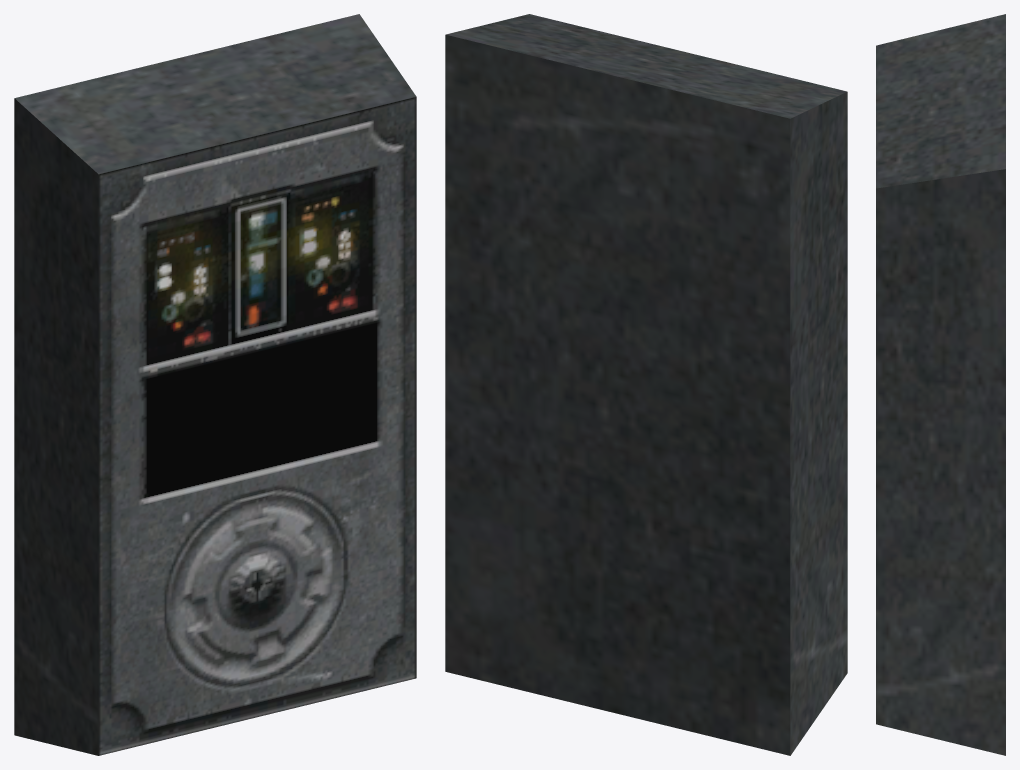
Rendered from thm_all_elevator_panel_down_s02_l1.fbx.
The picture shows the model from 3 angles, left to right: view 1: azimuth 30°, elevation 25°; view 2: azimuth 150°, elevation 25°; view 3: azimuth 270°, elevation 25°; orthographic projection. The views are drawn at different scales.
Parts seen in each view (by area): view 1: mesh_node; view 2: mesh_node; view 3: mesh_node.
Part boxes in pixels (left/top/right/bottom): mesh_node: left=14, top=14, right=416, bottom=755; mesh_node: left=445, top=14, right=847, bottom=755; mesh_node: left=876, top=14, right=1005, bottom=755.
Size of the model in its own units: 0.2045 by 0.3609 by 0.0724.
